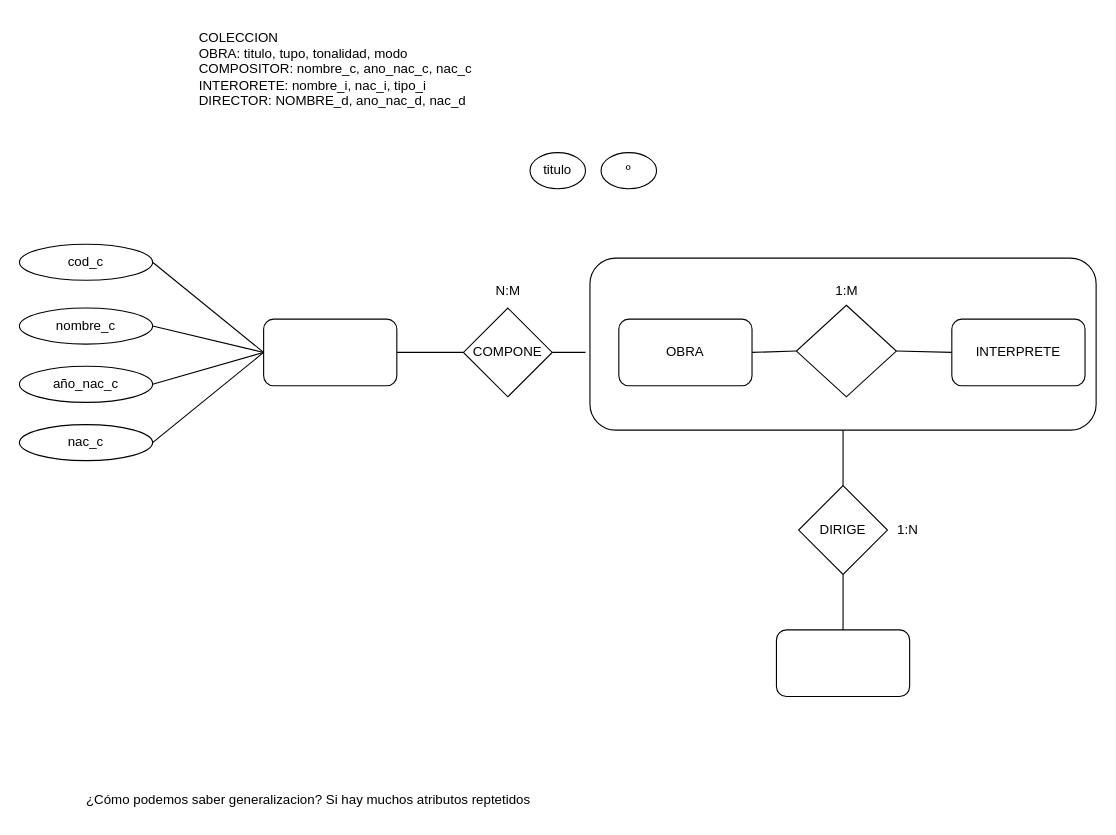
The diagram is 1116 pixels wide and 835 high, and some of its shapes have lost their labels. The box of each missing label's shape, as (x1, y1, x2, y2) in pixels:
COMPOSITOR: (263, 318, 397, 386)
DIRECTOR: (775, 629, 910, 697)
INTERPRETA: (795, 304, 896, 397)
